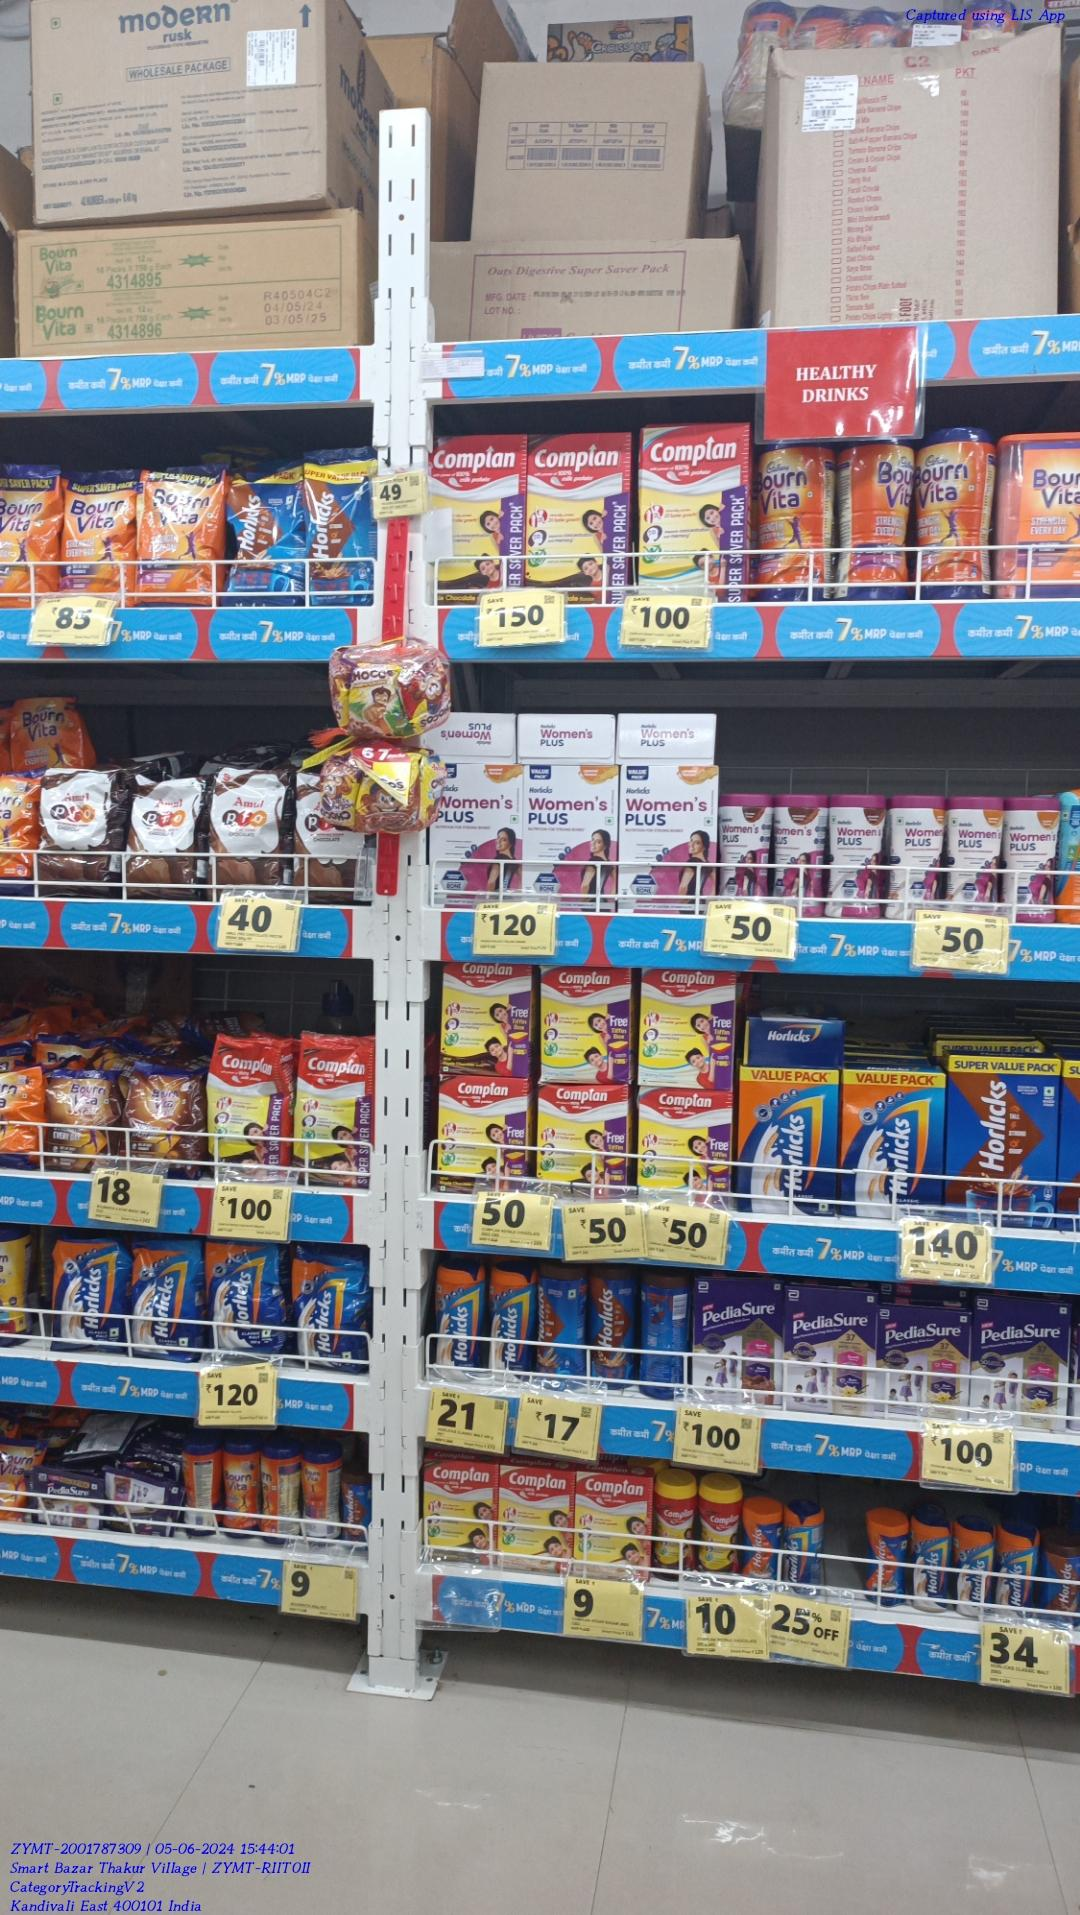HORLICK_CLASSIC_MALT_200_G_JAR: (991, 1535, 1043, 1623), (952, 1514, 994, 1610), (914, 1519, 952, 1603)
HORLICK_CLASSIC_MALT_500_G_JAR: (426, 1265, 485, 1374), (496, 1267, 535, 1365)
PEDIASURE_CHOCOLATE_500_G_PACK: (700, 1278, 787, 1405)
PEDIASURE_VANILLA_500_G_PACK: (972, 1299, 1072, 1430), (788, 1292, 875, 1411), (883, 1309, 976, 1414)
